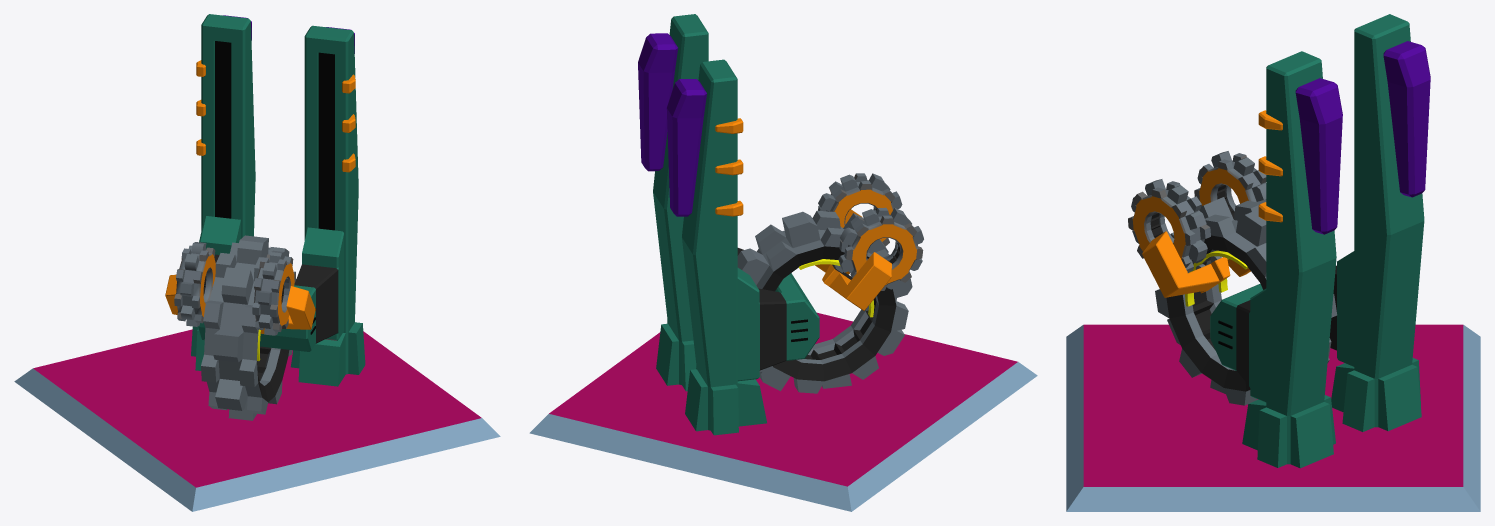
File: 88_Haarvester_KEK6.fbx
3 renders of one model, left to right at view 1: azimuth 30°, elevation 25°; view 2: azimuth 150°, elevation 25°; view 3: azimuth 270°, elevation 25°, orthographic. The views are drawn at different scales.
Visible parts, largest first — view 1: foundation6, base, big_rockdrill, elevator, pPipe30 (×2), pCube156; view 2: foundation6, base, big_rockdrill, elevator, pPipe30 (×2), pCube157, pCube158, pCube156; view 3: foundation6, base, big_rockdrill, pPipe30 (×2), elevator, pCube157, pCube158, pCube156.
Part boxes in pixels (x1=…): foundation6: x1=14, y1=329, x2=500, y2=511; base: x1=191, y1=14, x2=365, y2=386; big_rockdrill: x1=201, y1=235, x2=296, y2=420; elevator: x1=197, y1=216, x2=344, y2=351; pPipe30 (×2): x1=174, y1=242, x2=295, y2=335; pCube156: x1=260, y1=286, x2=315, y2=333; foundation6: x1=529, y1=312, x2=1037, y2=511; base: x1=653, y1=14, x2=766, y2=435; big_rockdrill: x1=737, y1=210, x2=912, y2=393; elevator: x1=737, y1=248, x2=819, y2=381; pPipe30 (×2): x1=818, y1=173, x2=923, y2=290; pCube157: x1=666, y1=79, x2=706, y2=216; pCube158: x1=638, y1=33, x2=678, y2=171; pCube156: x1=822, y1=252, x2=891, y2=310; foundation6: x1=1066, y1=324, x2=1480, y2=511; base: x1=1242, y1=14, x2=1424, y2=468; big_rockdrill: x1=1155, y1=197, x2=1337, y2=405; pPipe30 (×2): x1=1128, y1=151, x2=1266, y2=272; elevator: x1=1210, y1=251, x2=1354, y2=402; pCube157: x1=1383, y1=41, x2=1430, y2=197; pCube158: x1=1295, y1=78, x2=1342, y2=234; pCube156: x1=1142, y1=231, x2=1230, y2=297.
Size of the model in its own units: 78.74 by 85.55 by 78.76.
